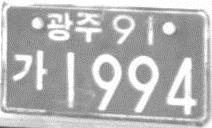1: (65, 48, 76, 108), (146, 14, 155, 47)
4: (161, 56, 198, 114)
9: (90, 52, 122, 111), (128, 54, 160, 112), (112, 13, 136, 46)
가: (11, 48, 50, 96)
광주_O: (45, 8, 103, 45)
